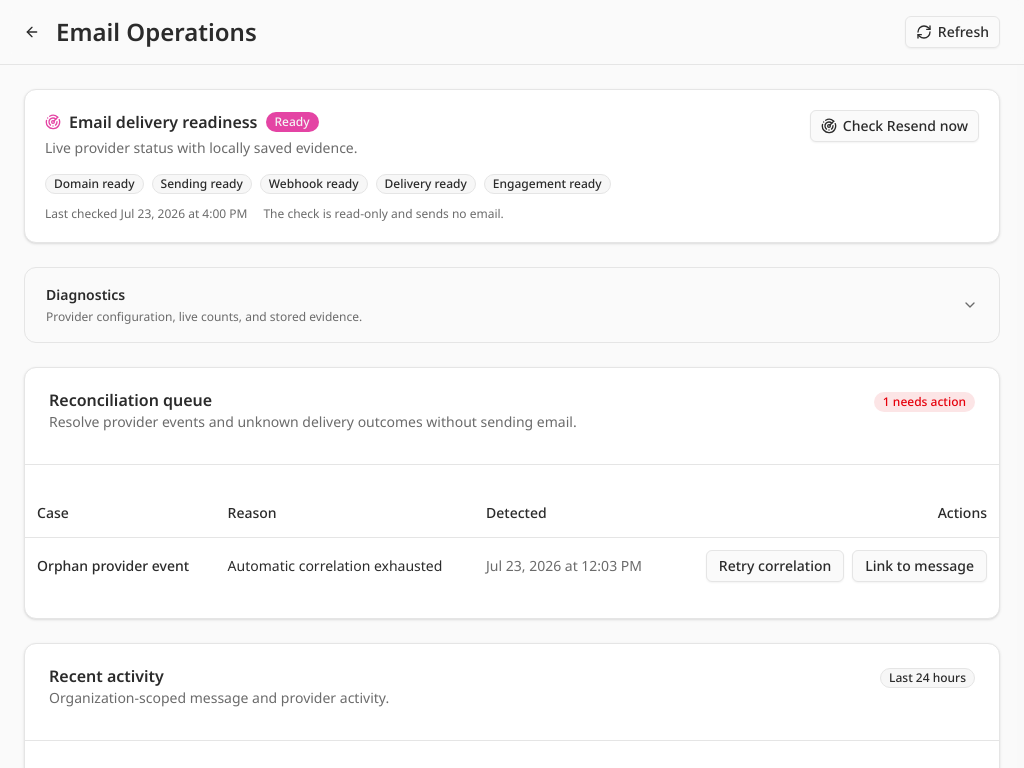
EmailOperationsDashboard › requires explicit confirmation before retrying local correlation
Click the button "Retry correlation" at (775, 566), box [706, 550, 844, 582]
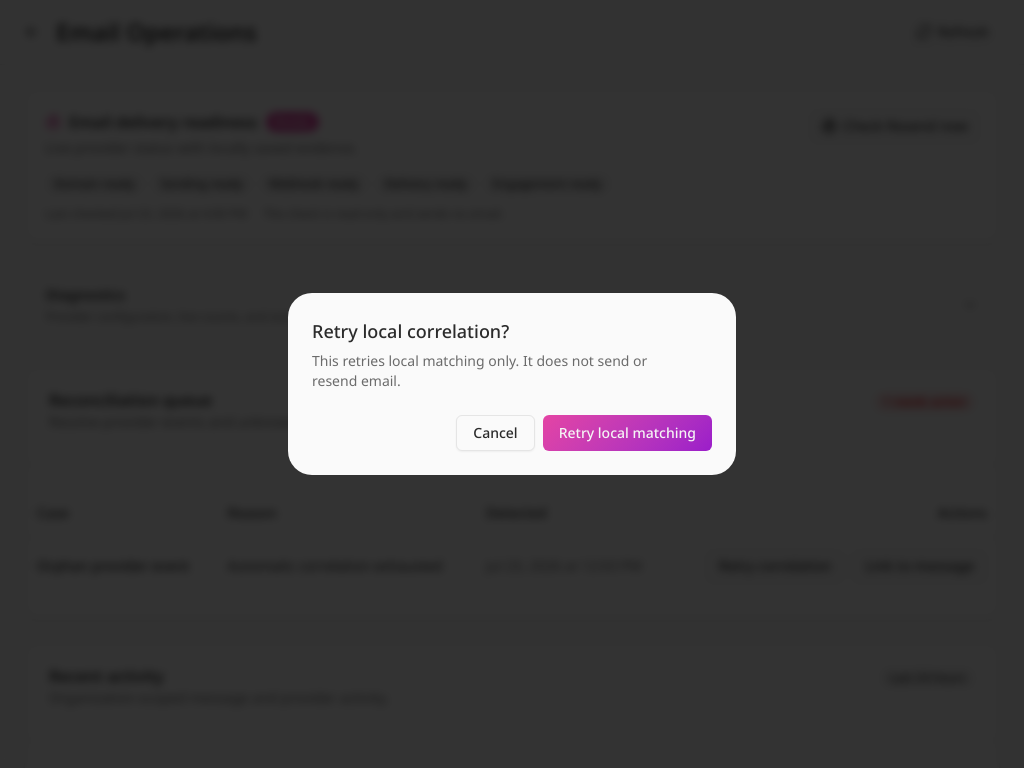
Expected: the text "This retries local matching only. It does not send or resend email." is shown, [312, 351, 647, 390]
Click the button "Retry local matching" at (627, 433), box [543, 415, 712, 451]
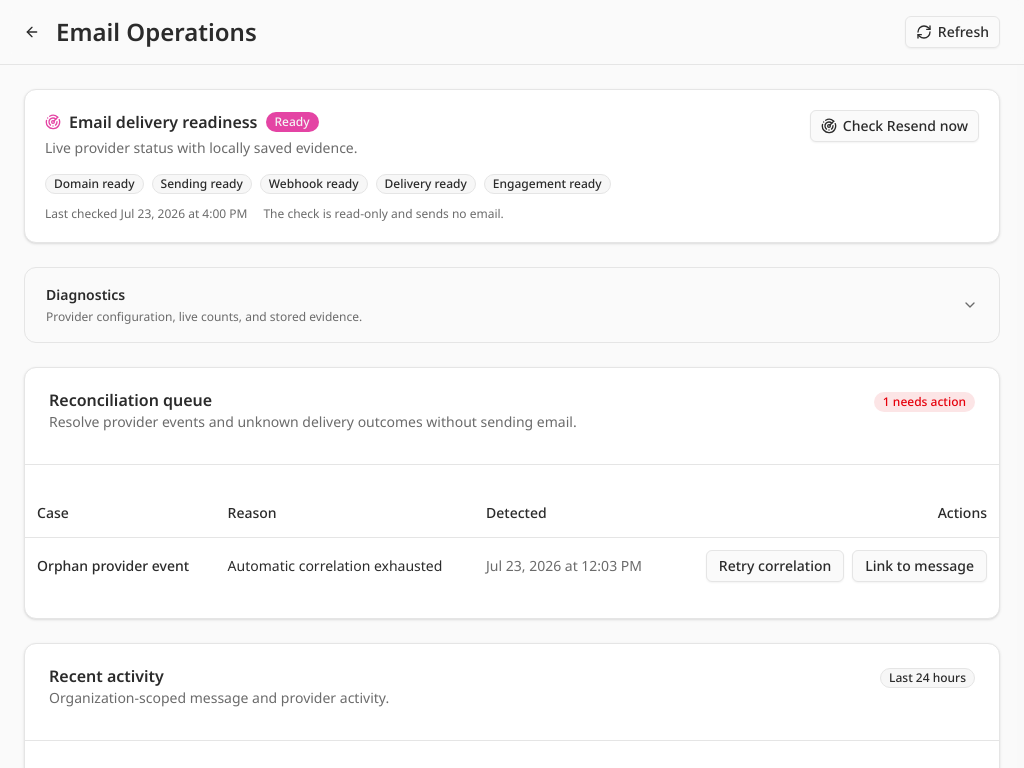
Expected: the dialog is gone
